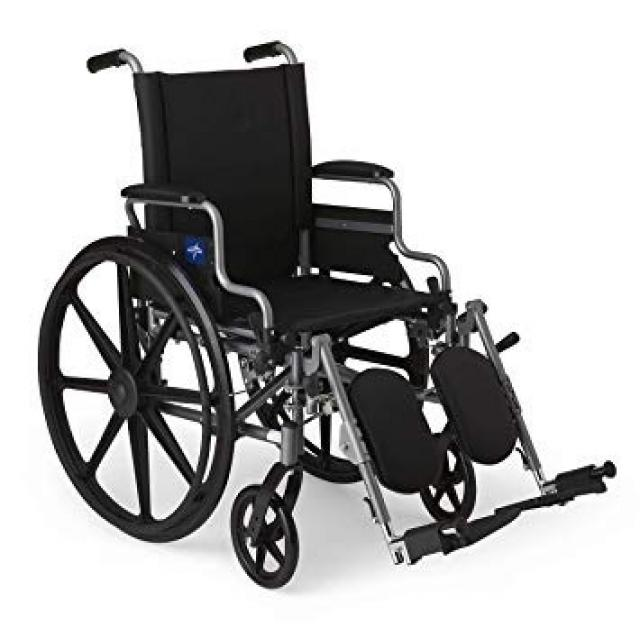wheelchair: (29, 24, 634, 594)
